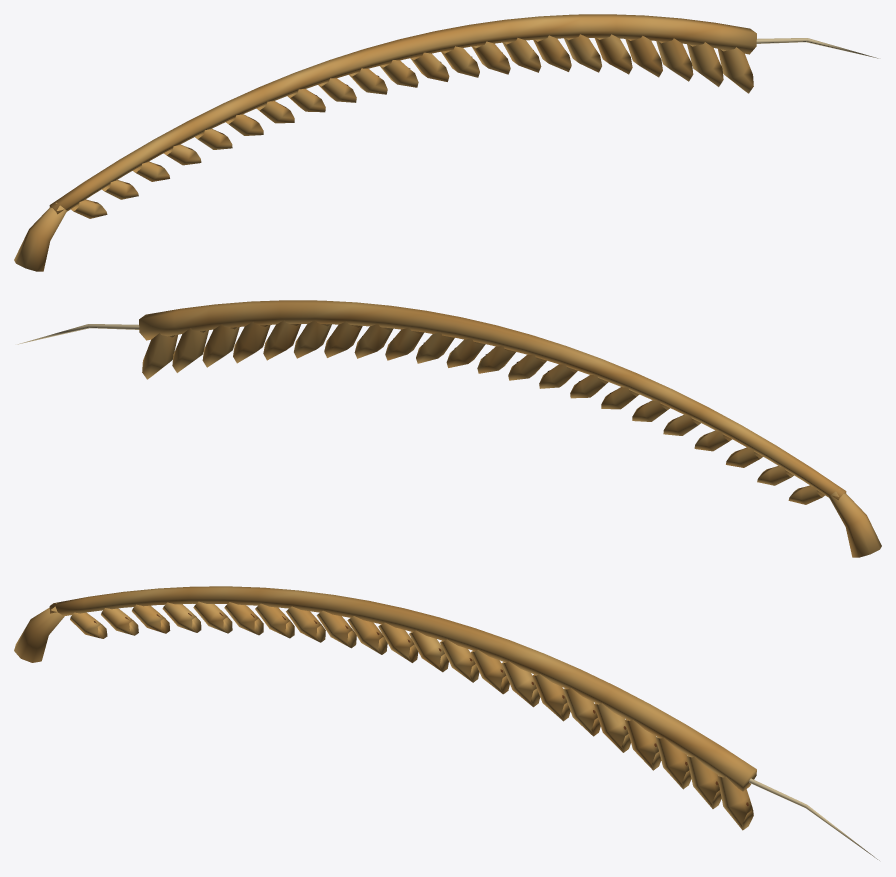
The model's file is MonograptusPriodon.fbx.
3 renders of one model, top to bottom at view 1: azimuth 30°, elevation 25°; view 2: azimuth 150°, elevation 25°; view 3: azimuth 330°, elevation 25°, orthographic.
Visible parts, largest first — view 1: MonograptusPriodon; view 2: MonograptusPriodon; view 3: MonograptusPriodon.
Boxes of the visible parts, x1,y1,x2,y2 form: MonograptusPriodon: (14, 14, 878, 271); MonograptusPriodon: (17, 300, 881, 557); MonograptusPriodon: (14, 586, 879, 860).
Size of the model in its own units: 2.11 by 0.3245 by 0.068.
